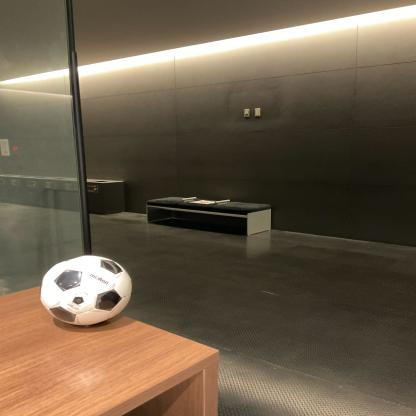ball: (37, 256, 132, 326)
